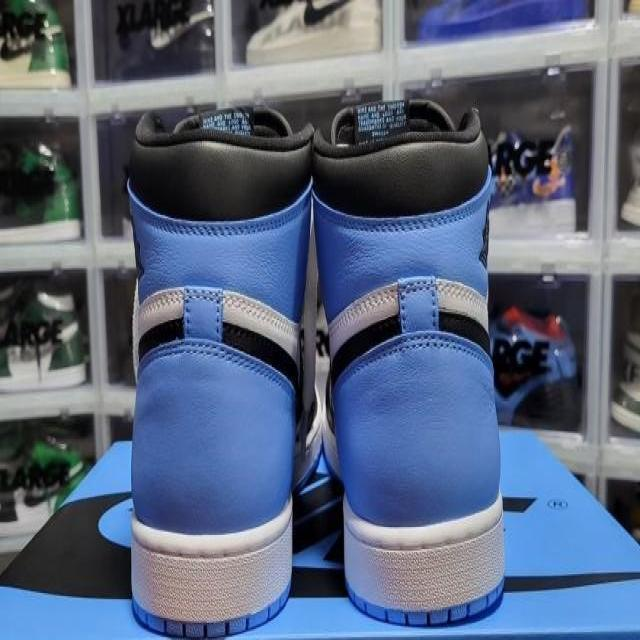J1_InsoleChar: (121, 94, 509, 636)
J1_MateComp: (310, 97, 506, 627), (122, 103, 316, 637), (0, 122, 82, 243), (0, 279, 88, 391), (244, 0, 382, 66)
J1_ShoeLogo: (1, 422, 638, 636), (489, 303, 580, 430), (408, 0, 595, 44), (490, 123, 575, 205), (0, 0, 72, 88), (329, 97, 455, 147), (114, 0, 214, 52), (531, 124, 574, 200), (352, 98, 408, 141), (200, 107, 253, 135), (545, 496, 569, 511)
J1_StitchPattern: (129, 275, 493, 385), (131, 283, 303, 393), (343, 516, 506, 621), (129, 525, 293, 623), (326, 274, 491, 337), (137, 288, 184, 317)
